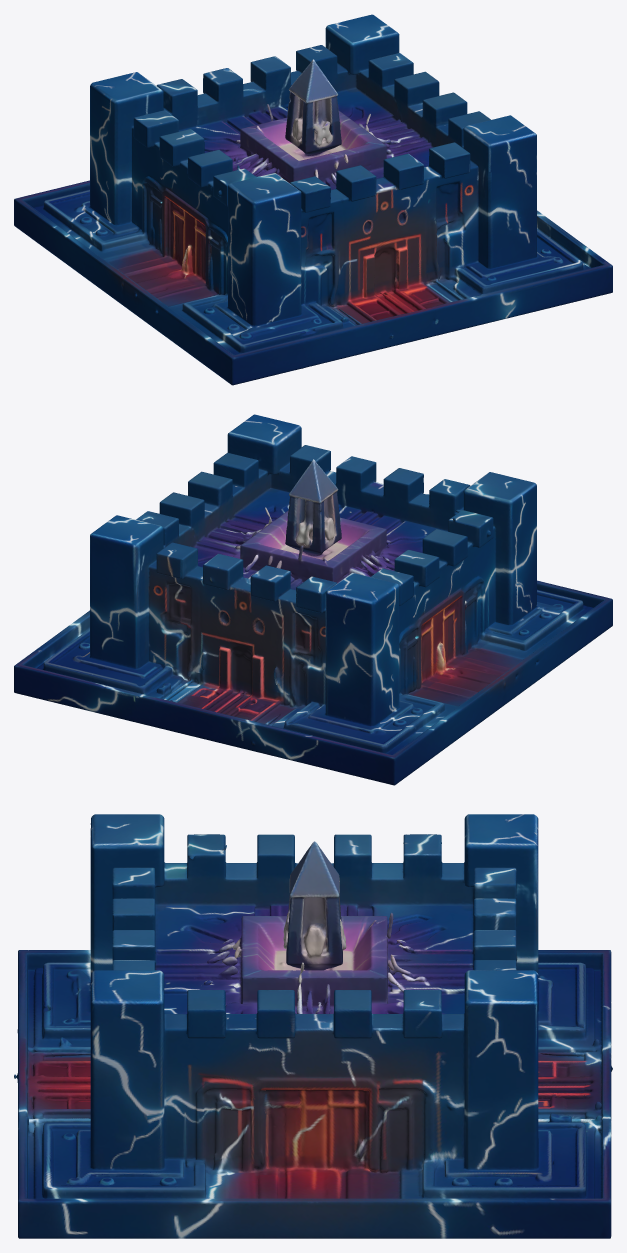
The model's file is fortress.glb.
3 renders of one model, top to bottom at view 1: azimuth 30°, elevation 25°; view 2: azimuth 150°, elevation 25°; view 3: azimuth 270°, elevation 25°, orthographic. The views are drawn at different scales.
Parts seen in each view (by area): view 1: tripo_node_61872348-bb18-4269-b69d-d23c27e1f0b1; view 2: tripo_node_61872348-bb18-4269-b69d-d23c27e1f0b1; view 3: tripo_node_61872348-bb18-4269-b69d-d23c27e1f0b1.
Part boxes in pixels (box(x1,y1,x2,y2)): tripo_node_61872348-bb18-4269-b69d-d23c27e1f0b1: box(14, 14, 612, 385); tripo_node_61872348-bb18-4269-b69d-d23c27e1f0b1: box(14, 414, 612, 785); tripo_node_61872348-bb18-4269-b69d-d23c27e1f0b1: box(14, 814, 612, 1238).
Size of the model in its own units: 1 by 0.5008 by 0.9999.
1 material, 1 textured.
